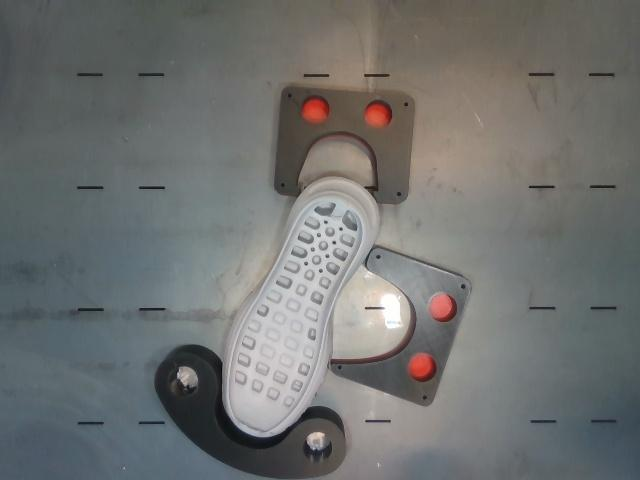shoes: (226, 194, 365, 432)
